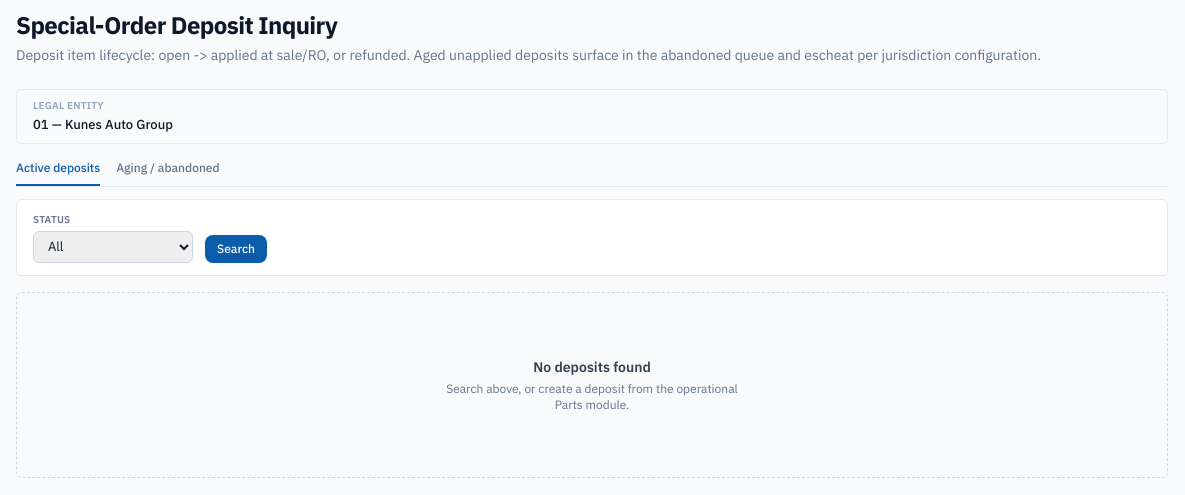
Test: PartsDeposits › renders active deposits after search
Click the button with test id "deposits-search".
click(236, 248)  # box [205, 234, 267, 262]
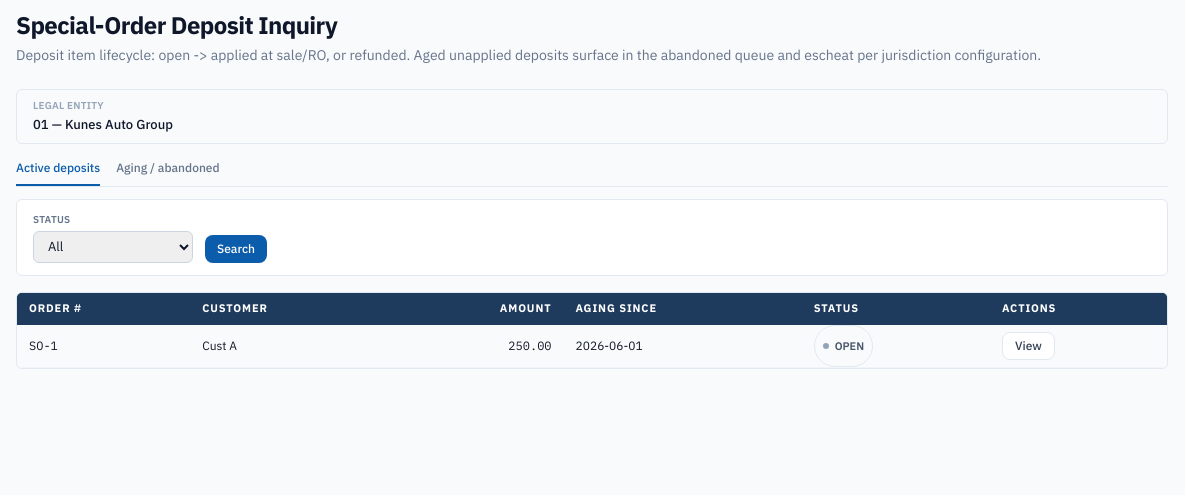
expect the table with test id "deposits-table" is shown: met, box [17, 292, 1167, 368]
expect the text "SO-1" is shown: met, box [17, 324, 190, 367]
